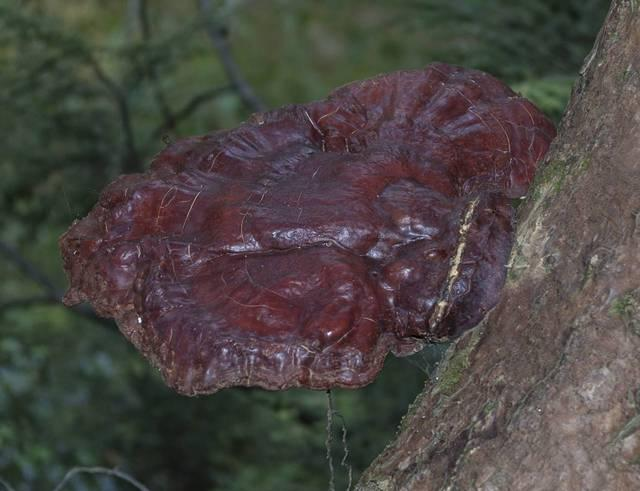Non-edible Mushroom: (56, 60, 558, 398)
